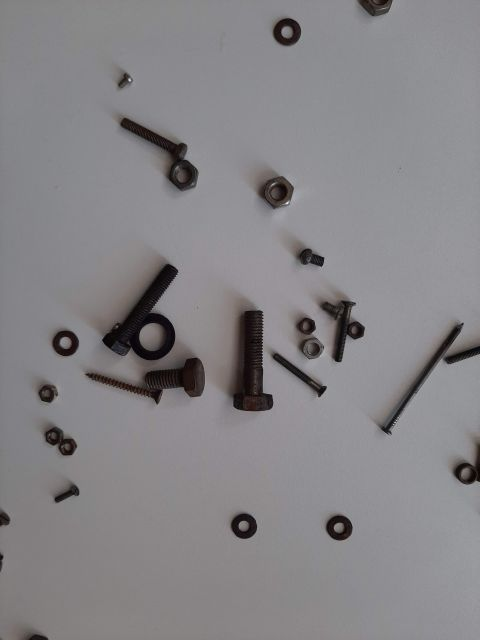gwozdz: (355, 305, 475, 445)
nakretka: (245, 155, 305, 215), (155, 135, 205, 185), (15, 365, 65, 415), (35, 415, 95, 455), (275, 325, 325, 355), (35, 415, 65, 445)
podkladka: (305, 495, 365, 555), (205, 505, 275, 555), (245, 5, 325, 45), (425, 445, 475, 495), (35, 305, 75, 355)
sruba: (75, 245, 185, 355), (215, 295, 275, 415), (105, 95, 205, 155), (125, 335, 205, 395), (265, 335, 325, 415), (325, 275, 355, 365), (45, 475, 95, 525), (295, 235, 335, 275)
